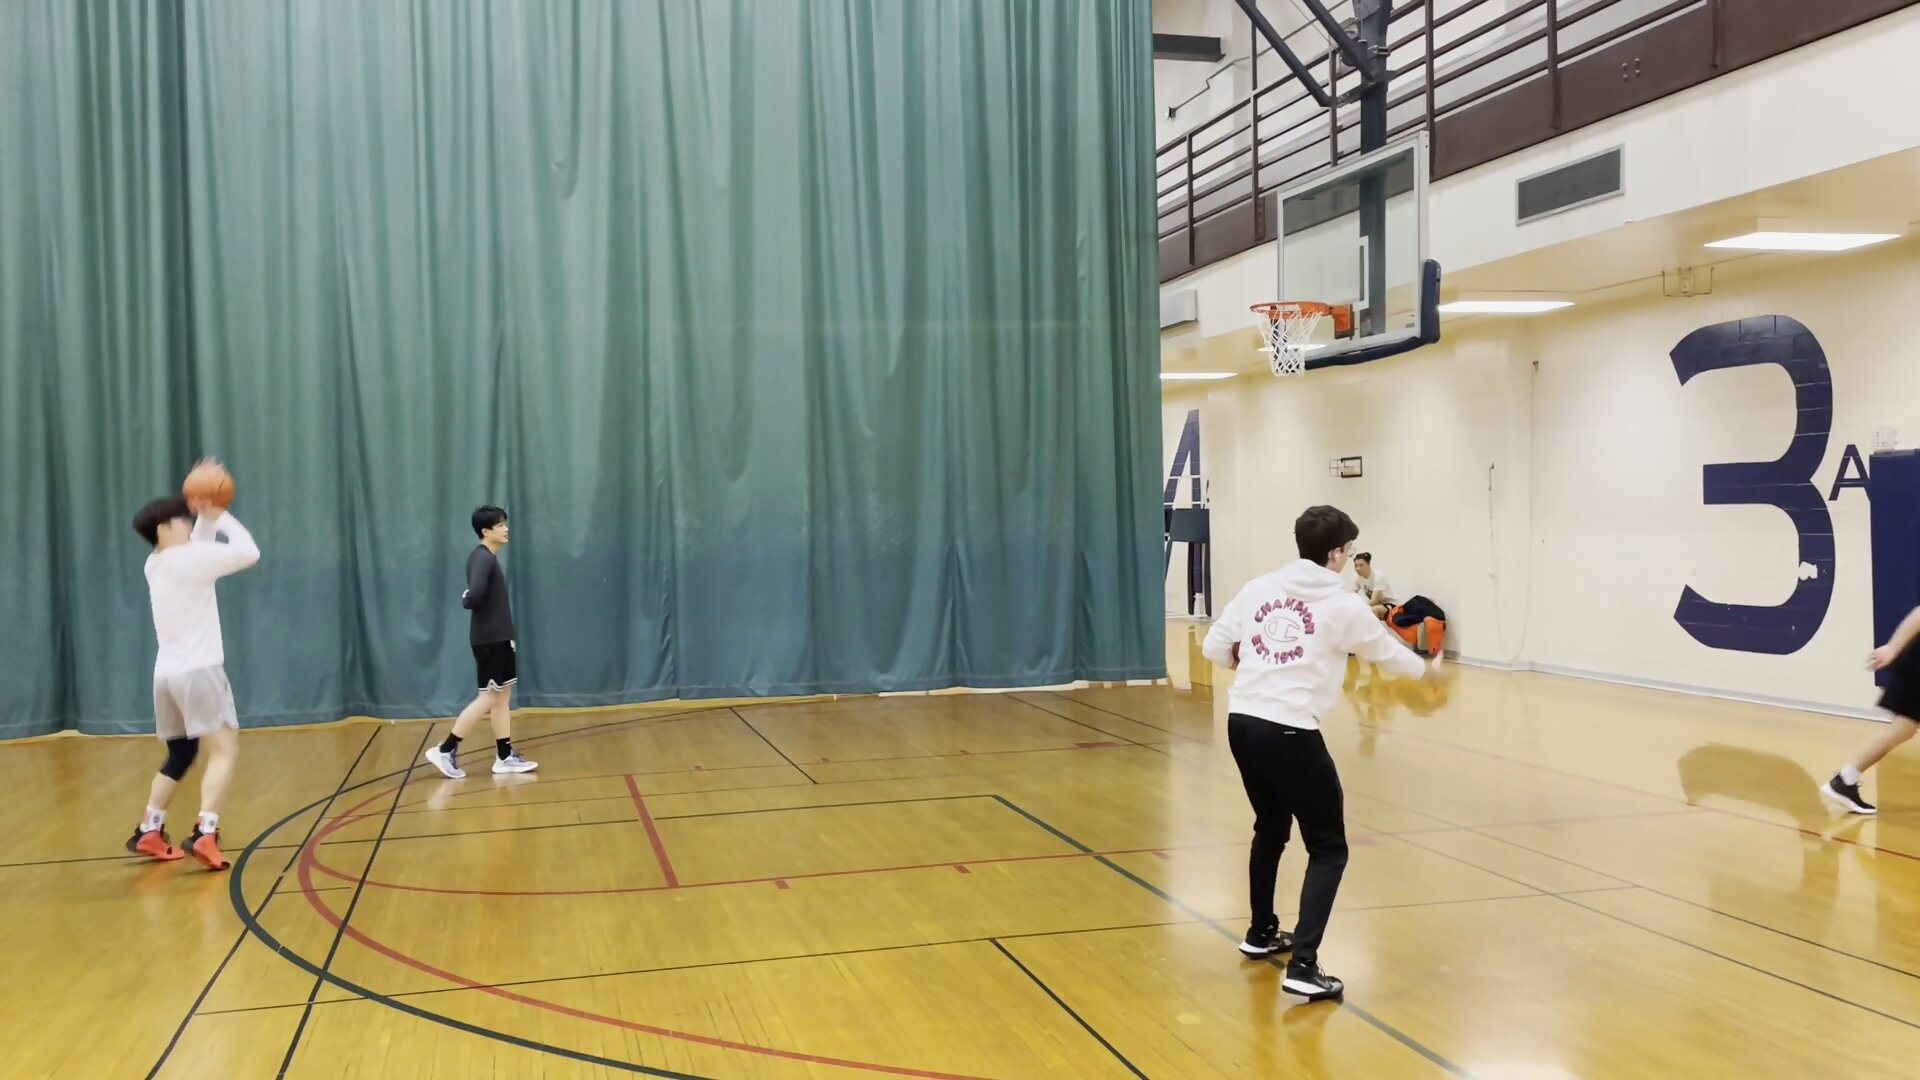ball: (186, 459, 240, 517)
net: (1258, 345, 1321, 386)
player: (1212, 505, 1431, 1007), (130, 493, 260, 869), (424, 496, 546, 782), (1348, 555, 1398, 619)
rim: (1244, 292, 1335, 322)
